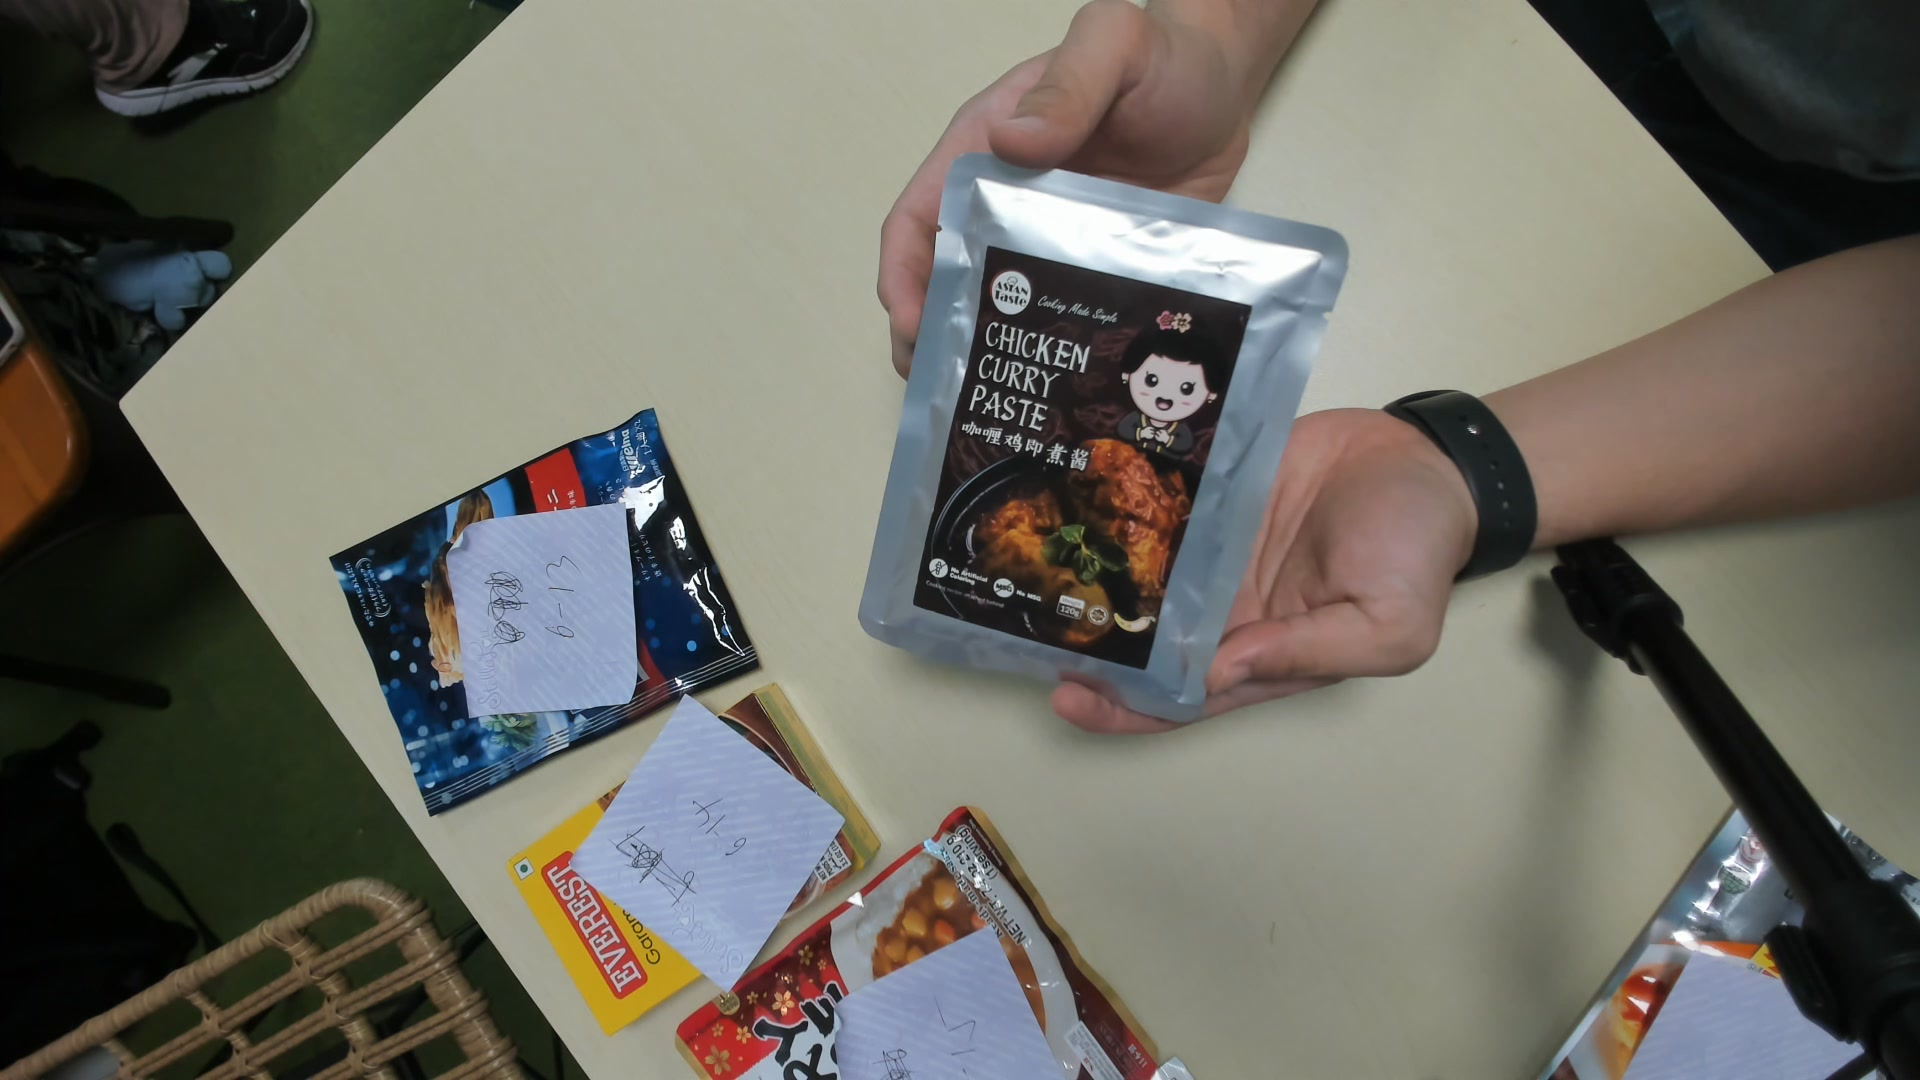CurryPastePowderSauce_100-199g_Halal_NonHealthy: (865, 157, 1352, 725)
